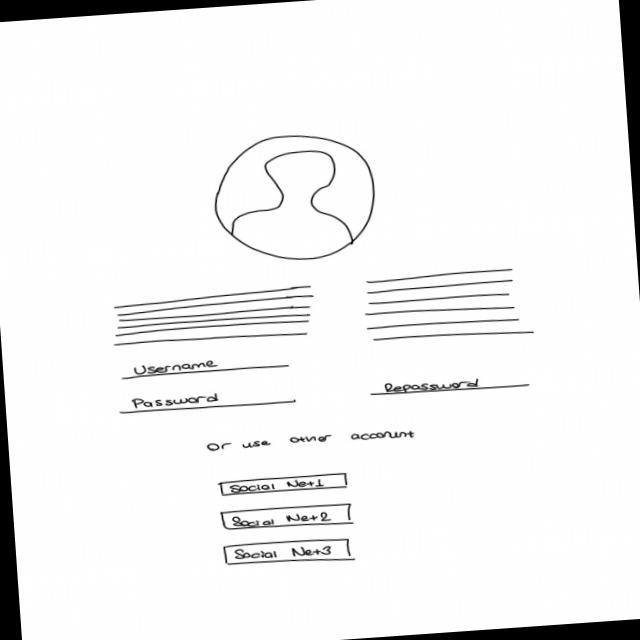button: (220, 534, 358, 570), (220, 501, 356, 534), (217, 471, 350, 497)
image: (208, 127, 380, 267)
input: (116, 385, 298, 416), (116, 352, 290, 380), (366, 370, 532, 398)
label: (204, 424, 419, 454)
textbox: (108, 282, 318, 351), (360, 265, 536, 346)
